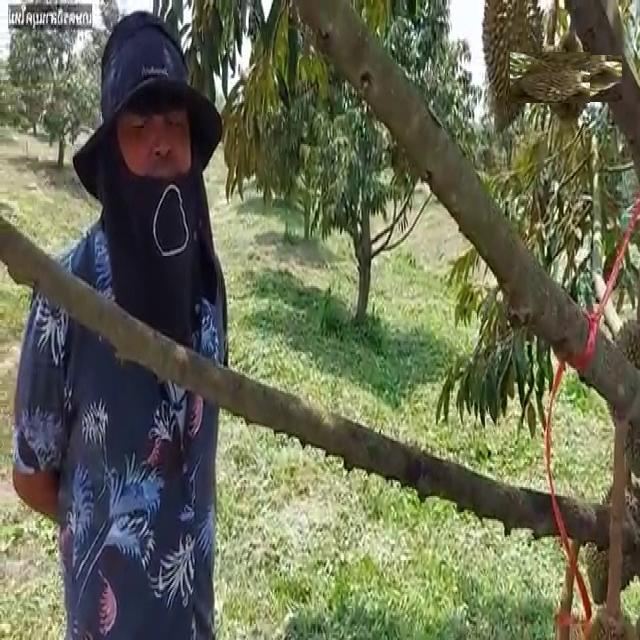durian: (477, 0, 546, 138), (535, 42, 609, 115), (517, 44, 583, 110)
